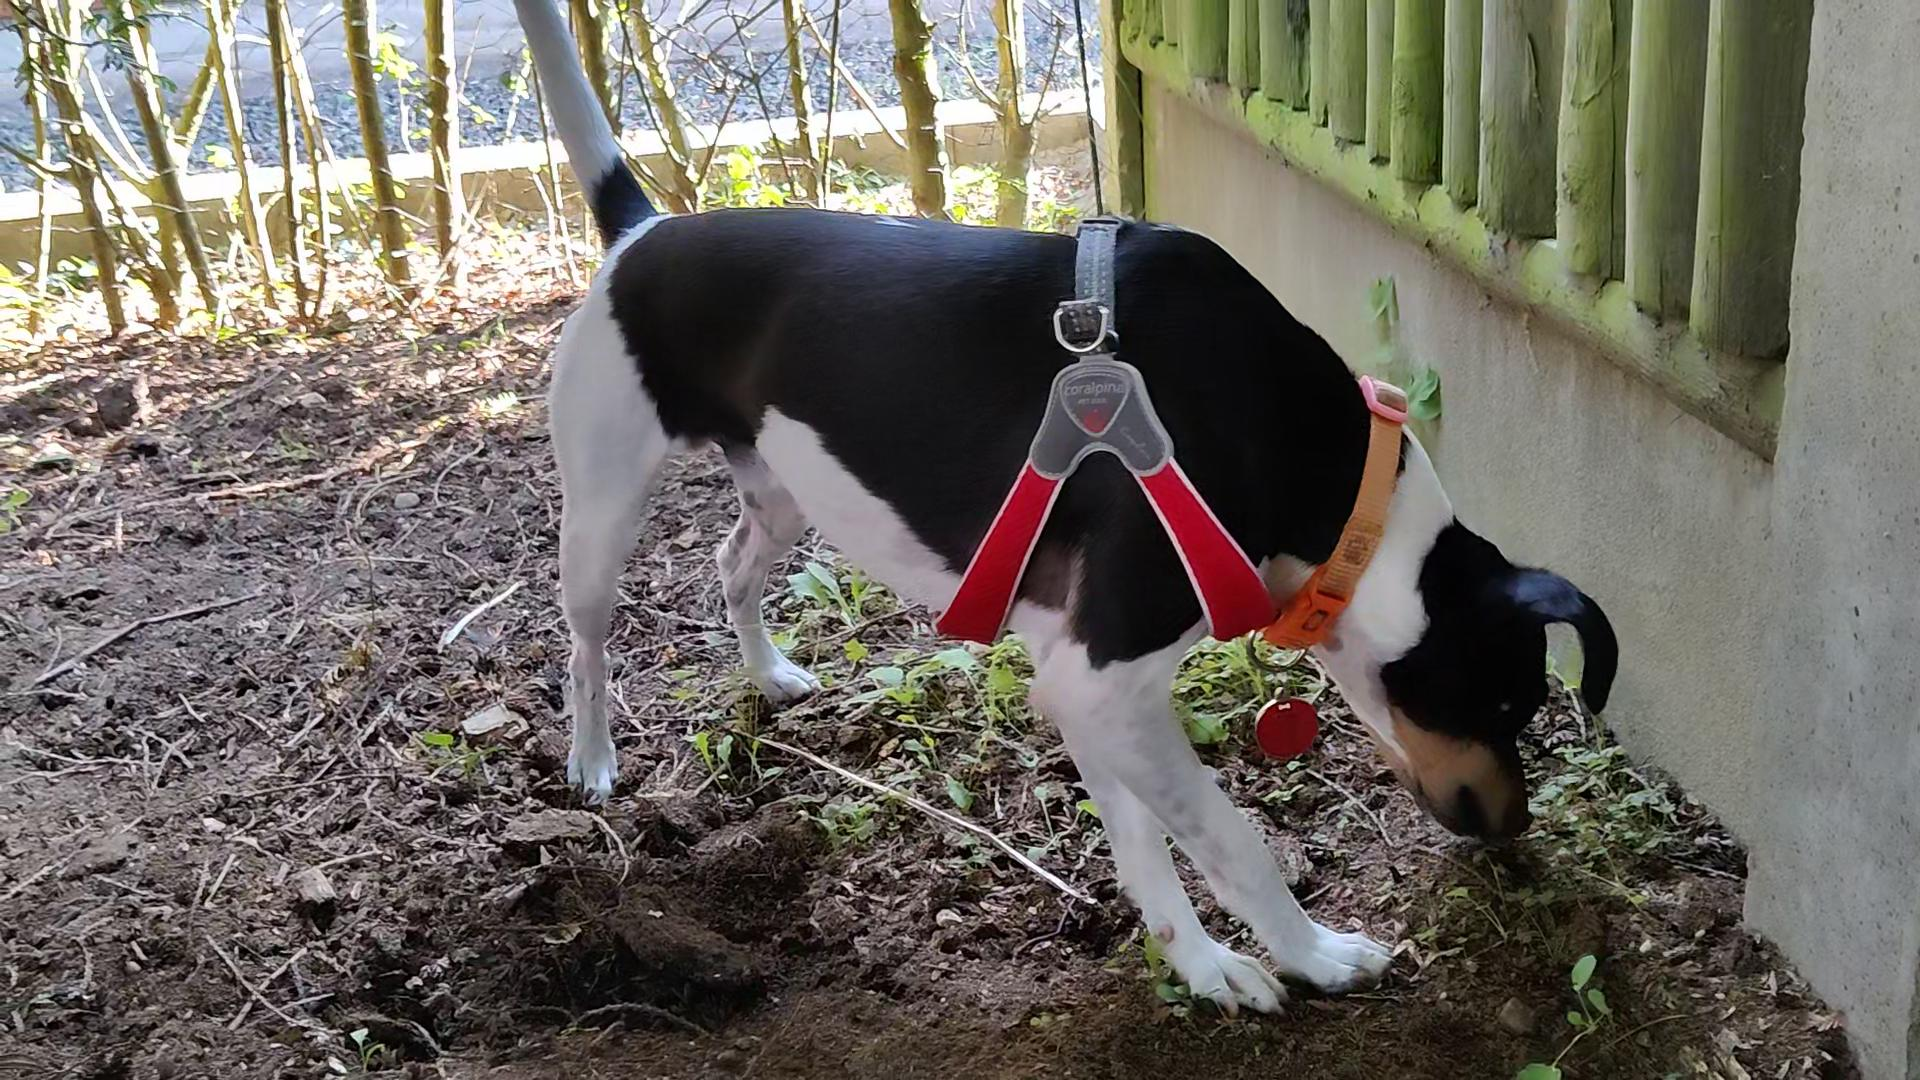Dog: (506, 0, 1626, 1017)
